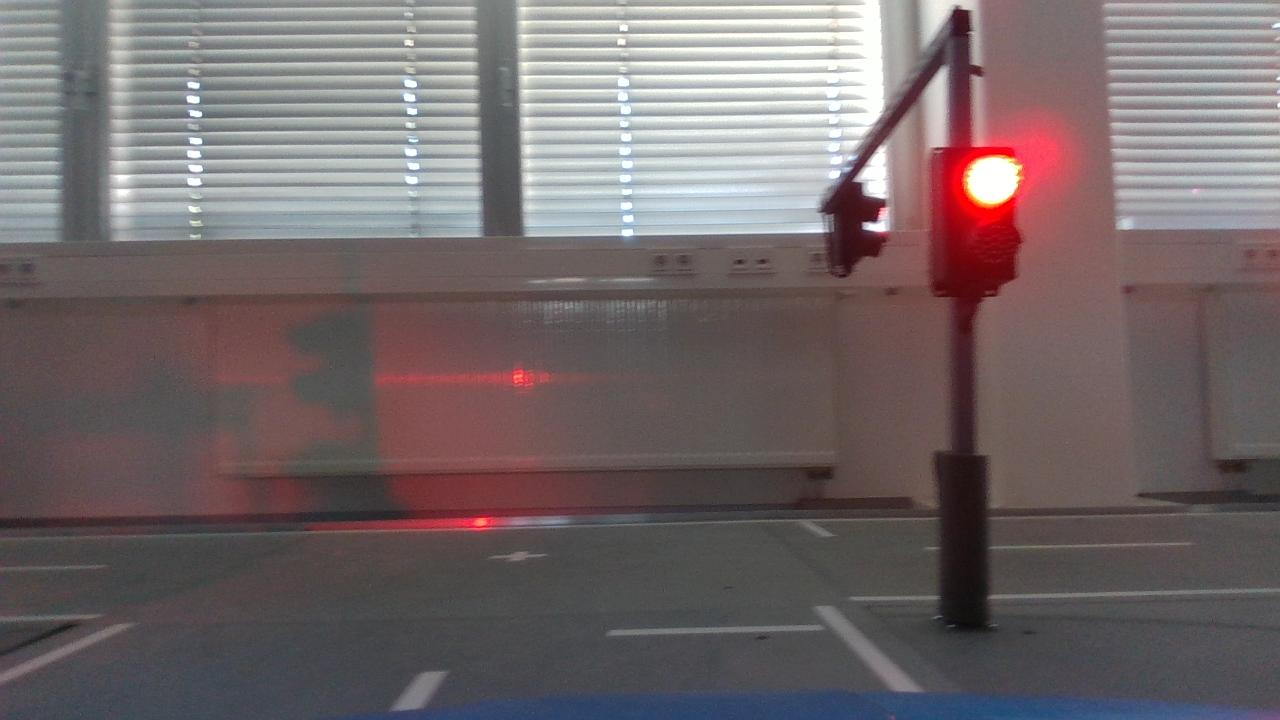traffic_light_red: (917, 137, 1034, 308)
